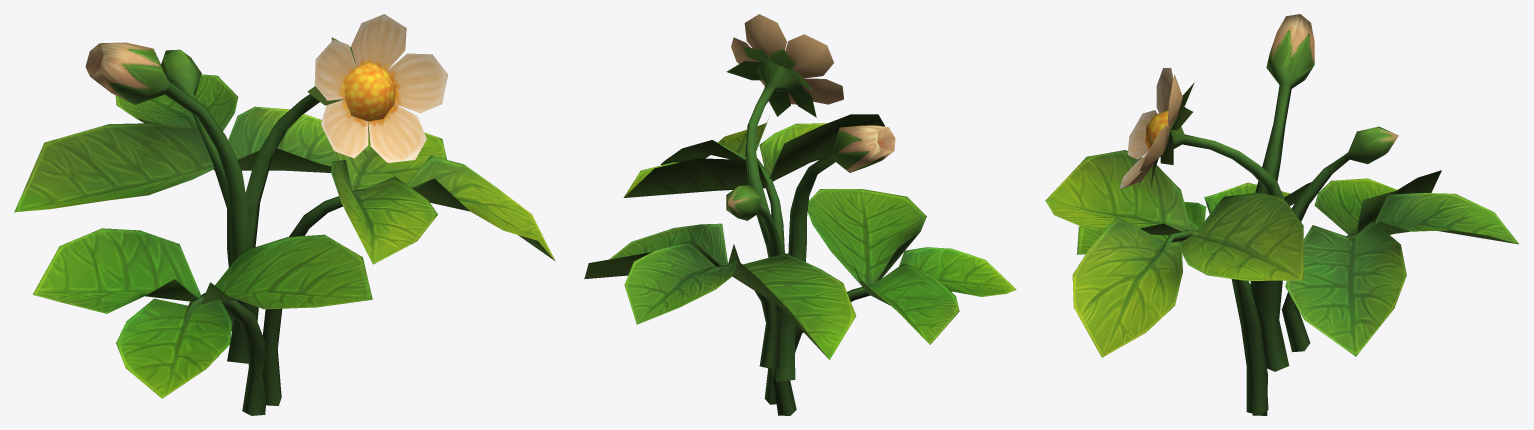
File: strawberry_2.FBX
The picture shows the model from 3 angles, left to right: view 1: azimuth 30°, elevation 25°; view 2: azimuth 150°, elevation 25°; view 3: azimuth 270°, elevation 25°; orthographic projection. The views are drawn at different scales.
Visible parts, largest first — view 1: strawberry_2; view 2: strawberry_2; view 3: strawberry_2.
Boxes of the visible parts, left/top/right/bottom form: strawberry_2: left=14, top=14, right=555, bottom=415; strawberry_2: left=584, top=14, right=1016, bottom=415; strawberry_2: left=1045, top=14, right=1518, bottom=415.
Bounding box in the file's own units: 70.27 × 68.09 × 79.38.
Materials: 1 (1 with a texture image).
